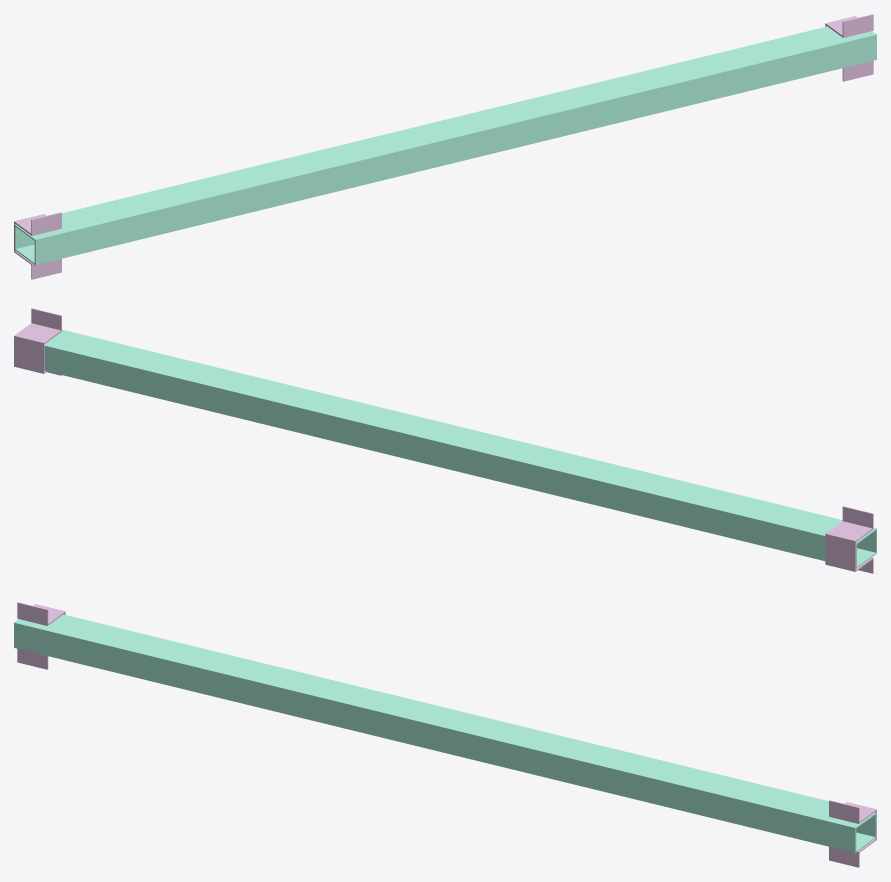
The picture shows the model from 3 angles, top to bottom: view 1: azimuth 30°, elevation 25°; view 2: azimuth 150°, elevation 25°; view 3: azimuth 330°, elevation 25°; orthographic projection.
Visible parts, largest first — view 1: <组件#29>_38, <tuojian#1>_76, <tuojian#1>_77; view 2: <组件#29>_38, <tuojian#1>_76, <tuojian#1>_77; view 3: <组件#29>_38, <tuojian#1>_77, <tuojian#1>_76.
Boxes of the visible parts, x1,y1,x2,y2 form: <组件#29>_38: [14, 26, 876, 264]; <tuojian#1>_76: [14, 212, 61, 279]; <tuojian#1>_77: [825, 14, 873, 81]; <组件#29>_38: [44, 329, 876, 568]; <tuojian#1>_76: [825, 506, 873, 573]; <tuojian#1>_77: [14, 308, 61, 375]; <组件#29>_38: [14, 614, 876, 852]; <tuojian#1>_77: [829, 800, 876, 867]; <tuojian#1>_76: [17, 602, 65, 669].
Bounding box in the file's own units: 110 × 7.48 × 4.88.
